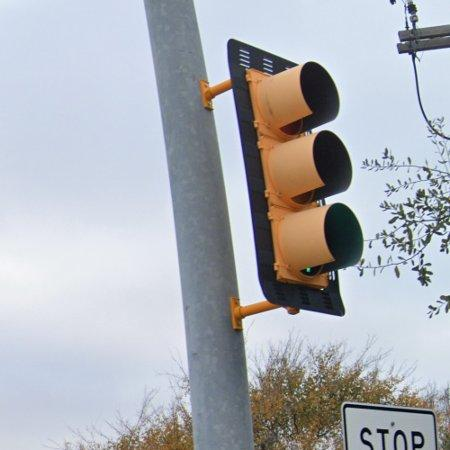traffic lights: (228, 39, 364, 316)
